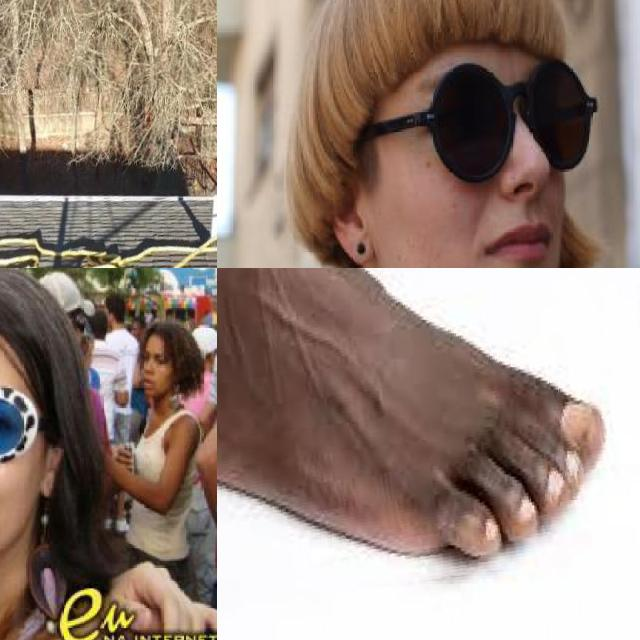Barefoots: (217, 268, 609, 617)
face_nomask: (418, 73, 576, 268), (0, 382, 24, 542), (139, 341, 170, 392)
glasses: (344, 49, 600, 200), (0, 363, 40, 462)
head_nohelmet: (327, 0, 588, 76), (0, 271, 71, 350), (140, 316, 194, 349)
person: (217, 0, 607, 268), (0, 268, 118, 640), (113, 315, 201, 567)
